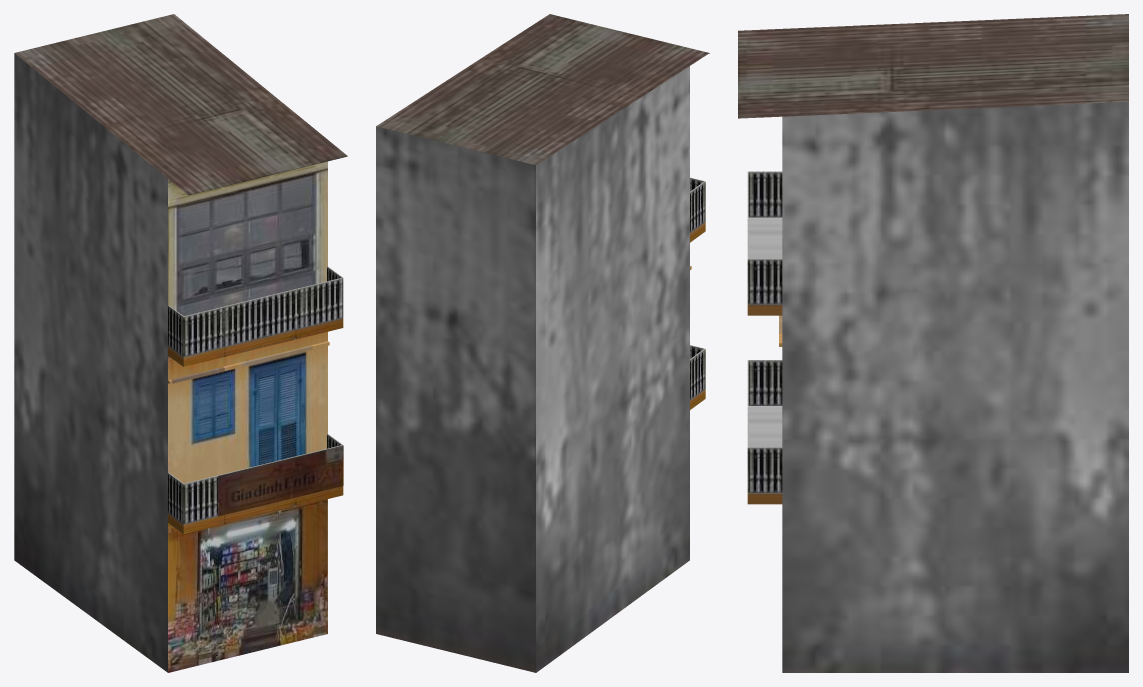
3 renders of one model, left to right at view 1: azimuth 30°, elevation 25°; view 2: azimuth 150°, elevation 25°; view 3: azimuth 270°, elevation 25°, orthographic. The views are drawn at different scales.
Parts seen in each view (by area): view 1: HN971_CuaHangVanAnh; view 2: HN971_CuaHangVanAnh; view 3: HN971_CuaHangVanAnh.
Part boxes in pixels (bbox=[...]): HN971_CuaHangVanAnh: bbox=[14, 14, 347, 672]; HN971_CuaHangVanAnh: bbox=[376, 14, 709, 672]; HN971_CuaHangVanAnh: bbox=[738, 14, 1128, 672].
Size of the model in its own units: 3 by 9.09 by 5.64.
Materials: 1 (1 with a texture image).
